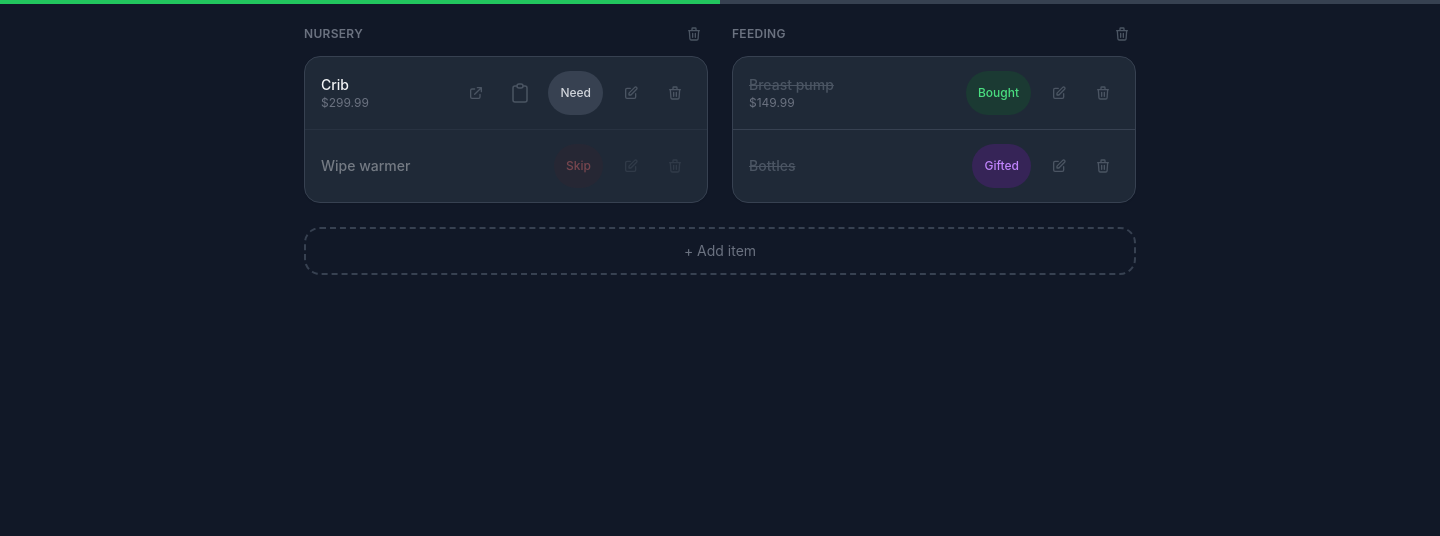
Test: PurchasesPage › add item button is disabled until name is entered
The image size is (1440, 536).
Expected: the text "Crib" is shown, x1=321 y1=76 x2=349 y2=93
Click the button "+ Add item".
click(720, 251)  # box x1=304 y1=227 x2=1136 y2=275
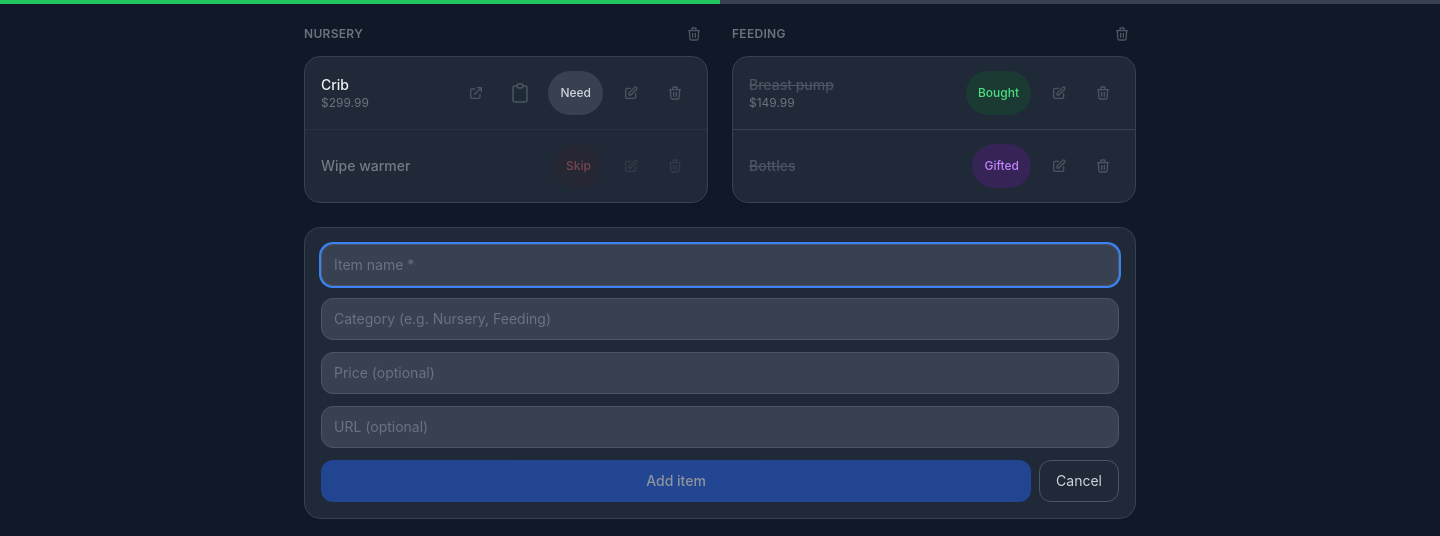
Expected: the button "Add item" is disabled, x1=321 y1=460 x2=1031 y2=502
Type "New item" into the field with placeholder "Item name *".
click(720, 265); type("New item")  # box x1=321 y1=244 x2=1119 y2=286
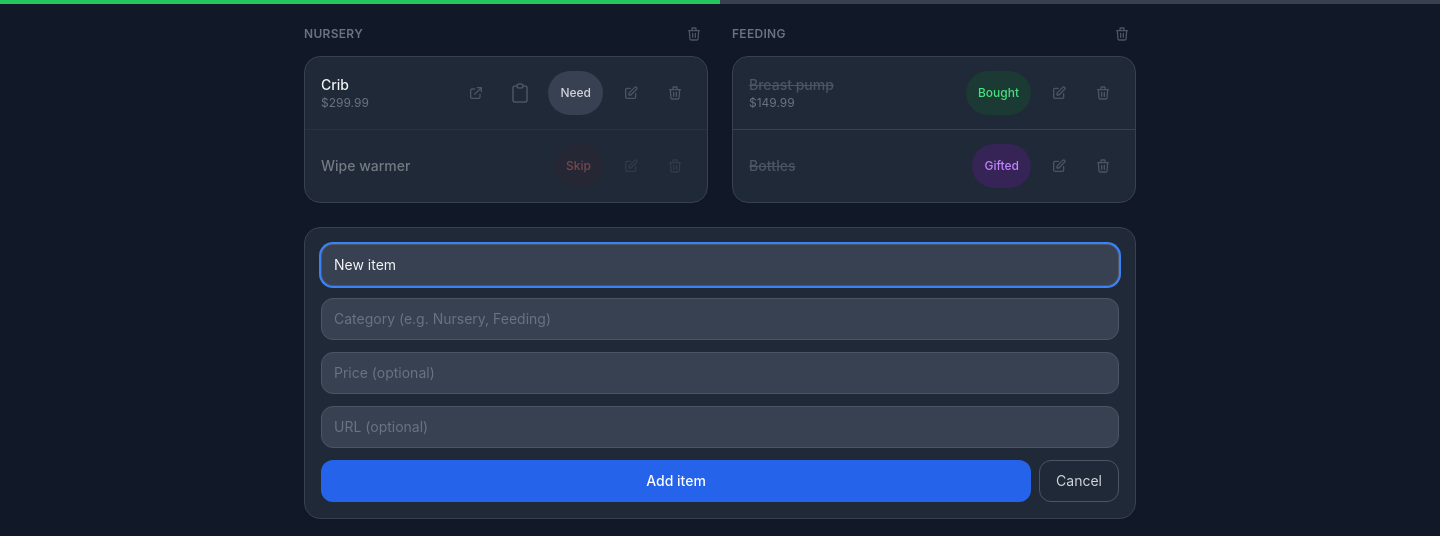
Result: the button "Add item" is enabled at x1=321 y1=460 x2=1031 y2=502
